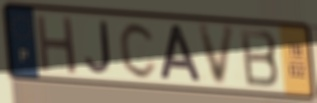A: (159, 23, 204, 84)
B: (238, 26, 282, 90)
C: (118, 20, 160, 81)
H: (34, 12, 79, 76)
J: (84, 20, 114, 76)
V: (196, 23, 238, 89)
